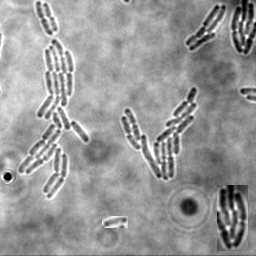Dividing: (34, 1, 52, 37), (41, 3, 57, 33)
Microcolony: (18, 40, 89, 199), (120, 87, 197, 181), (217, 185, 248, 251), (184, 5, 226, 52), (230, 1, 255, 56)
Rod: (102, 216, 128, 228)
